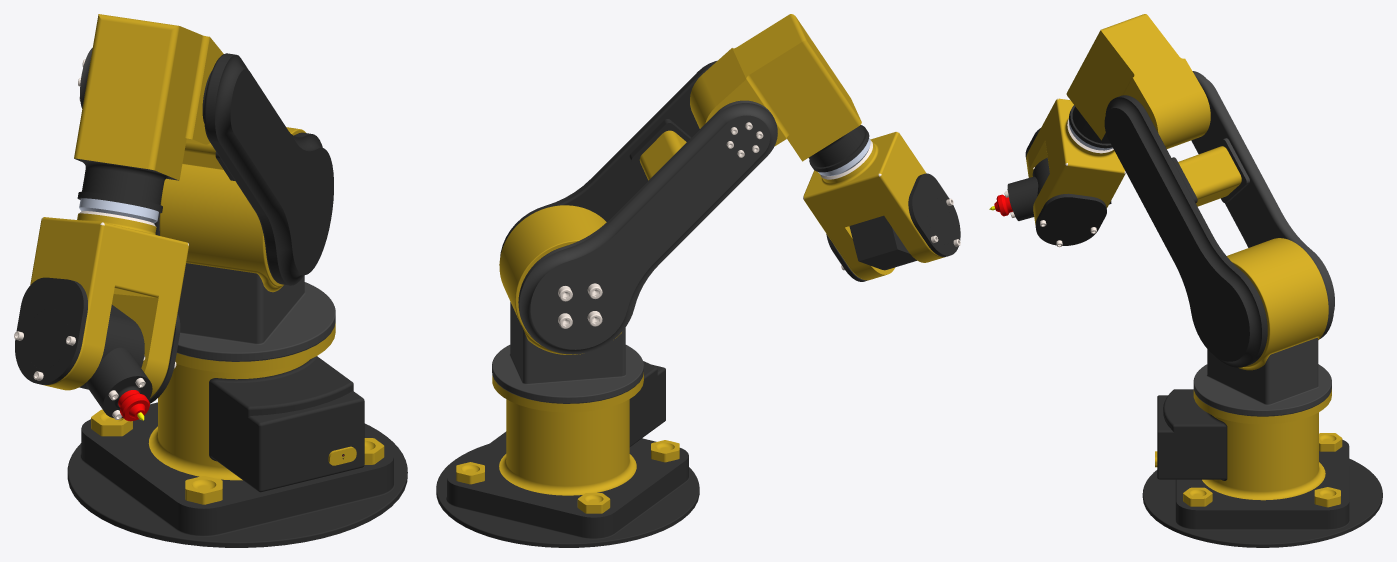
File: 4_DOF_Robotic_Arm.glb
3 renders of one model, left to right at view 1: azimuth 30°, elevation 25°; view 2: azimuth 150°, elevation 25°; view 3: azimuth 270°, elevation 25°, orthographic. The views are drawn at different scales.
Visible parts, largest first — view 1: 01. Base-1, 05. Tool Holder-1, 03. Link C22-1, 04. Link C33-1, 06. Revolver-1, 08. Cutter-1, Part1^4 DOF Robotic Arm-1, 07. Combiner-1; view 2: 01. Base-1, 02. Link C33 Connector-1, 05. Tool Holder-1, 03. Link C22-1, 06. Revolver-1, 04. Link C33-1, 08. Cutter-1, Part1^4 DOF Robotic Arm-1, 07. Combiner-1; view 3: 01. Base-1, 04. Link C33-1, 03. Link C22-1, 05. Tool Holder-1, 02. Link C33 Connector-1, 06. Revolver-1, 07. Combiner-1, 08. Cutter-1.
Part boxes in pixels (left/top/right/bottom): 01. Base-1: left=67, top=323, right=407, bottom=547; 05. Tool Holder-1: left=74, top=14, right=223, bottom=223; 03. Link C22-1: left=159, top=127, right=335, bottom=361; 04. Link C33-1: left=182, top=53, right=333, bottom=285; 06. Revolver-1: left=30, top=211, right=188, bottom=397; 08. Cutter-1: left=79, top=304, right=152, bottom=421; Part1^4 DOF Robotic Arm-1: left=15, top=277, right=87, bottom=385; 07. Combiner-1: left=25, top=308, right=180, bottom=403; 01. Base-1: left=436, top=361, right=699, bottom=547; 02. Link C33 Connector-1: left=518, top=100, right=777, bottom=354; 05. Tool Holder-1: left=690, top=14, right=870, bottom=176; 03. Link C22-1: left=492, top=205, right=643, bottom=403; 06. Revolver-1: left=803, top=131, right=944, bottom=280; 04. Link C33-1: left=500, top=60, right=717, bottom=255; 08. Cutter-1: left=849, top=215, right=916, bottom=270; Part1^4 DOF Robotic Arm-1: left=908, top=173, right=960, bottom=256; 07. Combiner-1: left=826, top=198, right=953, bottom=281; 01. Base-1: left=1142, top=389, right=1382, bottom=547; 04. Link C33-1: left=1104, top=95, right=1267, bottom=367; 03. Link C22-1: left=1193, top=238, right=1331, bottom=416; 05. Tool Holder-1: left=1066, top=14, right=1210, bottom=150; 02. Link C33 Connector-1: left=1191, top=71, right=1334, bottom=338; 06. Revolver-1: left=1026, top=98, right=1125, bottom=224; 07. Combiner-1: left=1035, top=193, right=1106, bottom=245; 08. Cutter-1: left=989, top=157, right=1111, bottom=220.
Bounding box in the file's own units: 0.9455 × 1.04 × 0.91.
